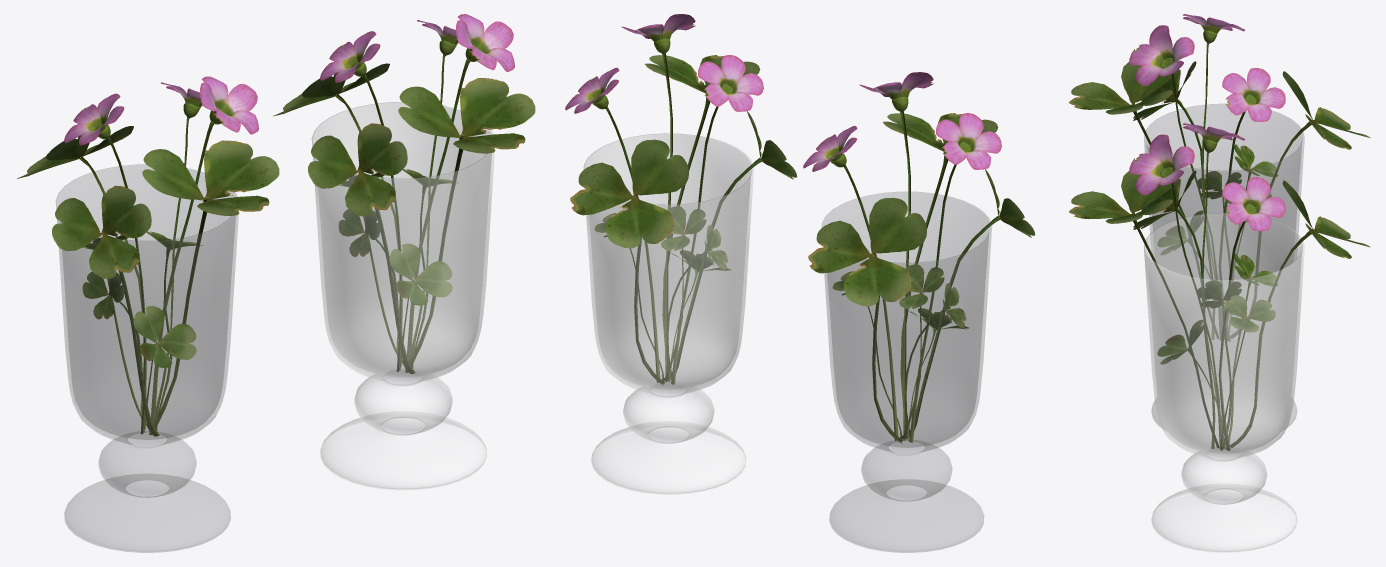
The model's file is vase-of-flowers.glb.
3 renders of one model, left to right at view 1: azimuth 30°, elevation 25°; view 2: azimuth 150°, elevation 25°; view 3: azimuth 270°, elevation 25°, orthographic. The views are drawn at different scales.
Visible parts, largest first — view 1: Flowers1, GlassTransmission, GlassAlpha; view 2: GlassTransmission, Flowers1, GlassAlpha; view 3: GlassTransmission, Flowers1, GlassAlpha.
Boxes of the visible parts, x1,y1,x2,y2 form: Flowers1: (17,14,535,436); GlassTransmission: (311,102,494,490); GlassAlpha: (56,164,238,552); GlassTransmission: (583,133,754,494); Flowers1: (565,14,1035,443); GlassAlpha: (822,192,991,552); GlassTransmission: (1144,213,1304,552); Flowers1: (1069,14,1370,450); GlassAlpha: (1144,104,1304,430).
Bounding box in the file's own units: 0.2173 × 0.2032 × 0.1425.
3 materials, 1 textured.
